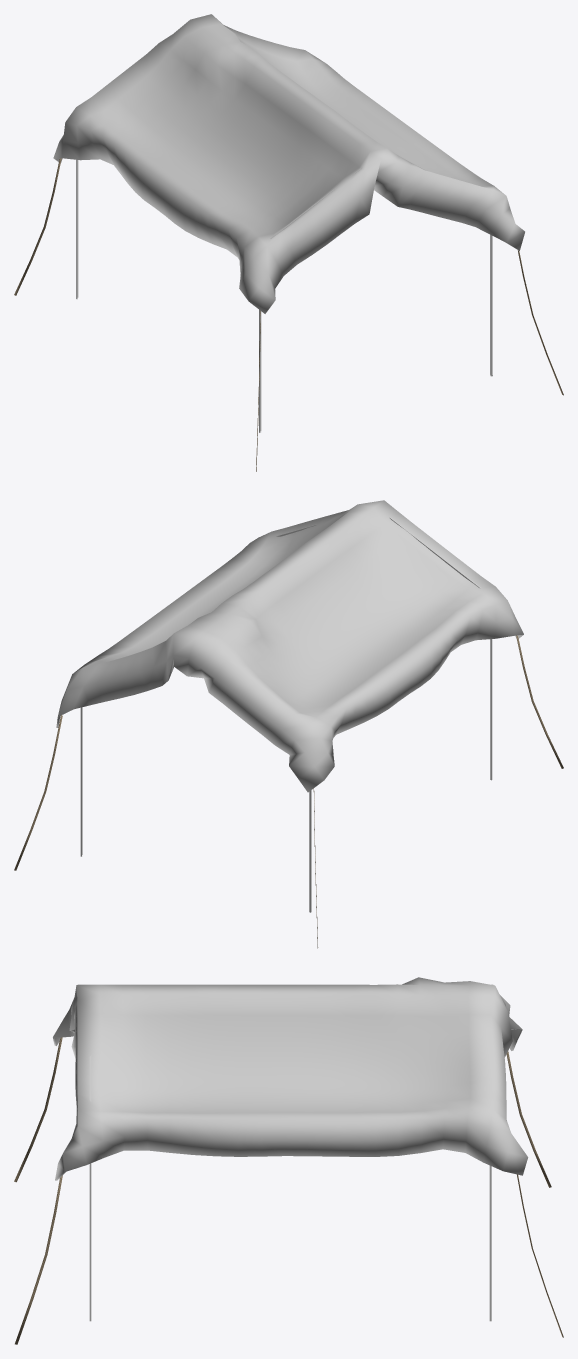
File: Tent.fbx
3 renders of one model, top to bottom at view 1: azimuth 30°, elevation 25°; view 2: azimuth 150°, elevation 25°; view 3: azimuth 270°, elevation 25°, orthographic. The views are drawn at different scales.
Parts seen in each view (by area): view 1: tent_cloth, tent_bones, tent_ropes; view 2: tent_cloth, tent_bones, tent_ropes; view 3: tent_cloth, tent_ropes, tent_bones.
Part boxes in pixels (x1=…): tent_cloth: x1=53, y1=14, x2=524, y2=313; tent_bones: x1=76, y1=160, x2=492, y2=432; tent_ropes: x1=14, y1=158, x2=563, y2=471; tent_cloth: x1=56, y1=500, x2=523, y2=792; tent_bones: x1=80, y1=517, x2=492, y2=912; tent_ropes: x1=14, y1=635, x2=563, y2=948; tent_cloth: x1=53, y1=977, x2=528, y2=1180; tent_ropes: x1=14, y1=1037, x2=563, y2=1344; tent_bones: x1=89, y1=1055, x2=491, y2=1321.
Bounding box in the file's own units: 987 × 791 × 1395.
